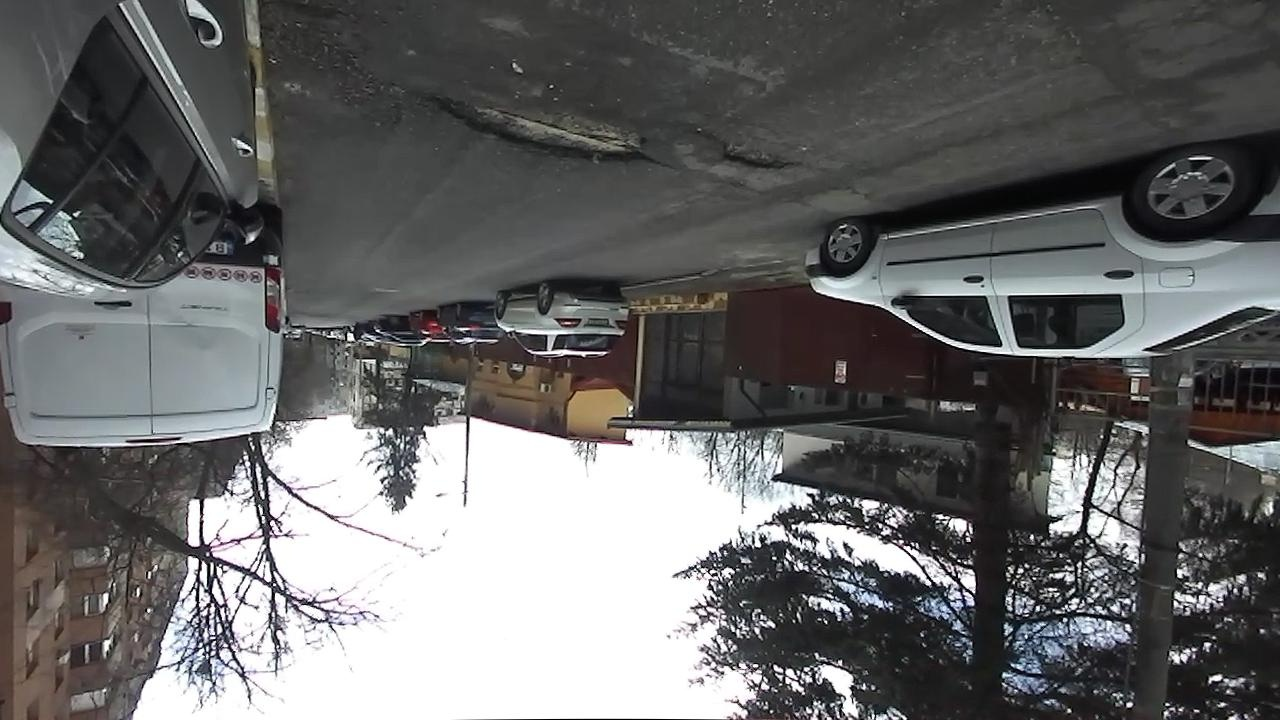pothole: (418, 82, 658, 168), (704, 132, 804, 173)
